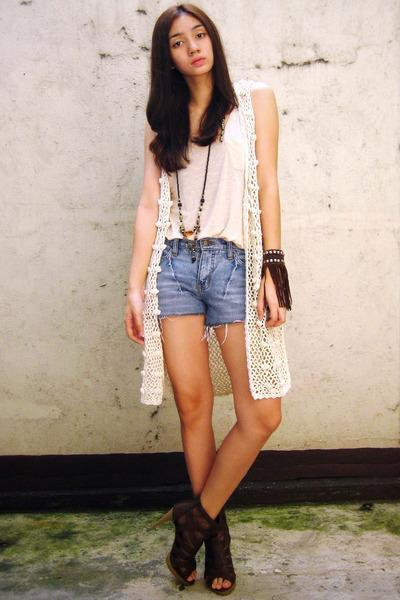jacket: (140, 92, 290, 404)
shoe: (167, 492, 234, 590)
shorts: (156, 226, 245, 331)
